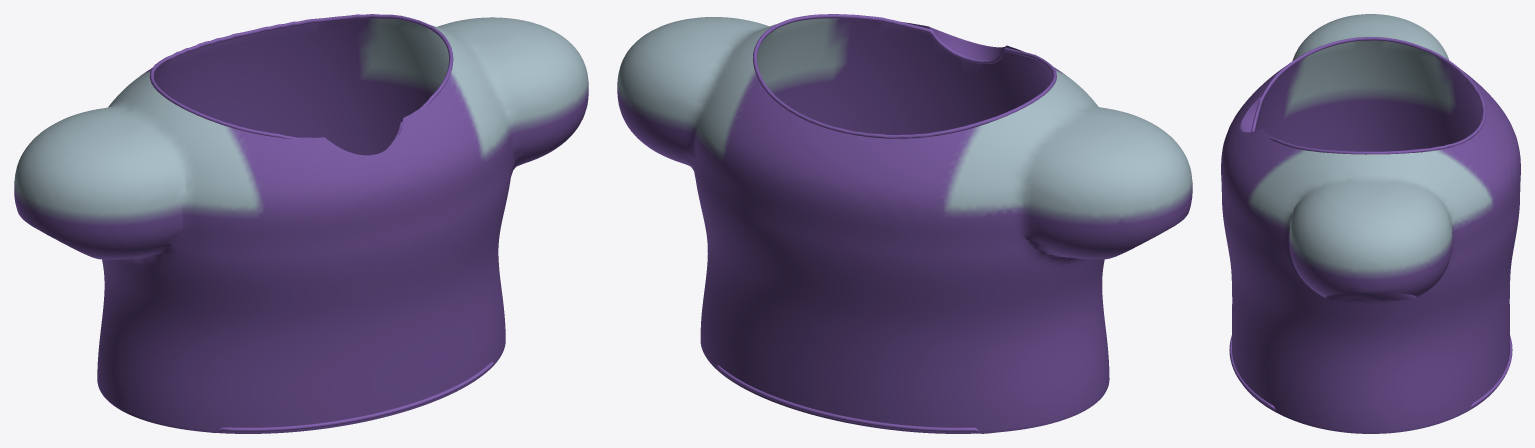
File: Masculine-jersey-top.glb
3 views of the same model, side by side, from view 1: azimuth 30°, elevation 25°; view 2: azimuth 150°, elevation 25°; view 3: azimuth 270°, elevation 25° (orthographic). The views are drawn at different scales.
Parts seen in each view (by area): view 1: Clothing / jersey, jersey neck binding export, jersey hem border export; view 2: Clothing / jersey, jersey neck binding export, jersey hem border export; view 3: Clothing / jersey, jersey neck binding export, jersey hem border export.
Boxes of the visible parts, x1,y1,x2,y2 form: Clothing / jersey: (14, 17, 588, 433); jersey neck binding export: (149, 14, 453, 151); jersey hem border export: (209, 361, 493, 432); Clothing / jersey: (617, 17, 1192, 433); jersey neck binding export: (752, 14, 1056, 138); jersey hem border export: (716, 365, 993, 433); Clothing / jersey: (1221, 14, 1520, 433); jersey neck binding export: (1251, 37, 1485, 154); jersey hem border export: (1229, 335, 1512, 410).
Size of the model in its own units: 1.06 by 0.5493 by 0.5707.
